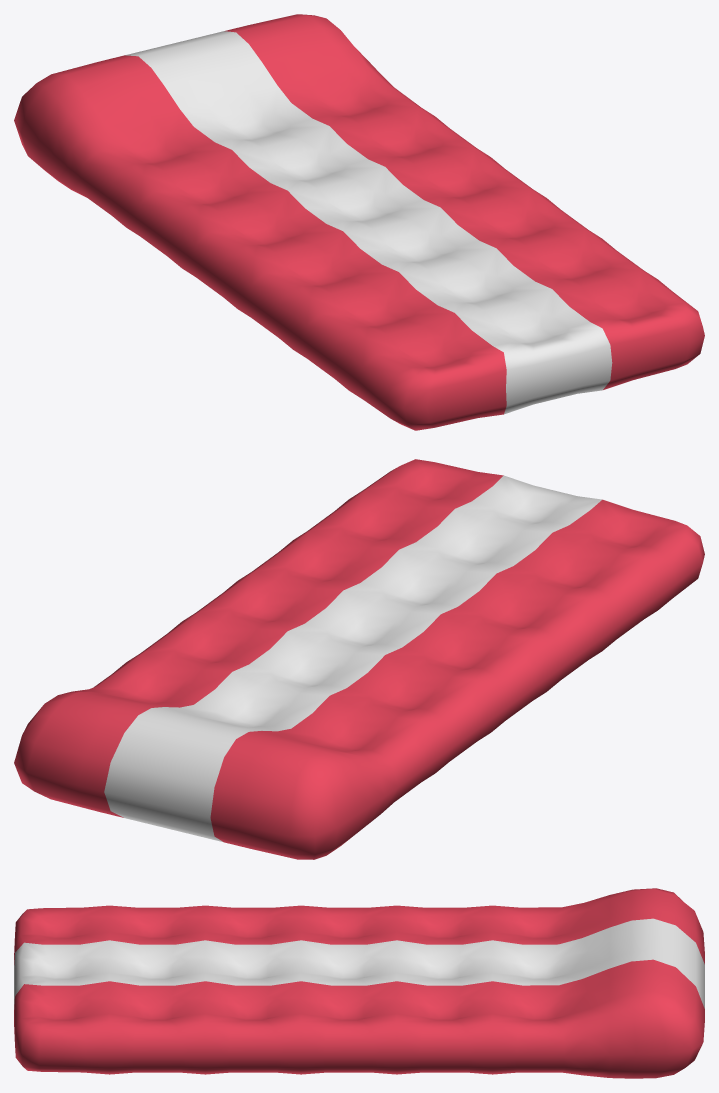
The model's file is Luftmatratze.fbx.
The picture shows the model from 3 angles, top to bottom: view 1: azimuth 30°, elevation 25°; view 2: azimuth 150°, elevation 25°; view 3: azimuth 270°, elevation 25°; orthographic projection. The views are drawn at different scales.
Visible parts, largest first — view 1: Luftmatratze; view 2: Luftmatratze; view 3: Luftmatratze.
Boxes of the visible parts, box(x1,y1,x2,y2) form: Luftmatratze: box(14, 14, 704, 430); Luftmatratze: box(14, 459, 704, 859); Luftmatratze: box(14, 888, 704, 1078).
Bounding box in the file's own units: 1.25 × 0.3729 × 2.72.
